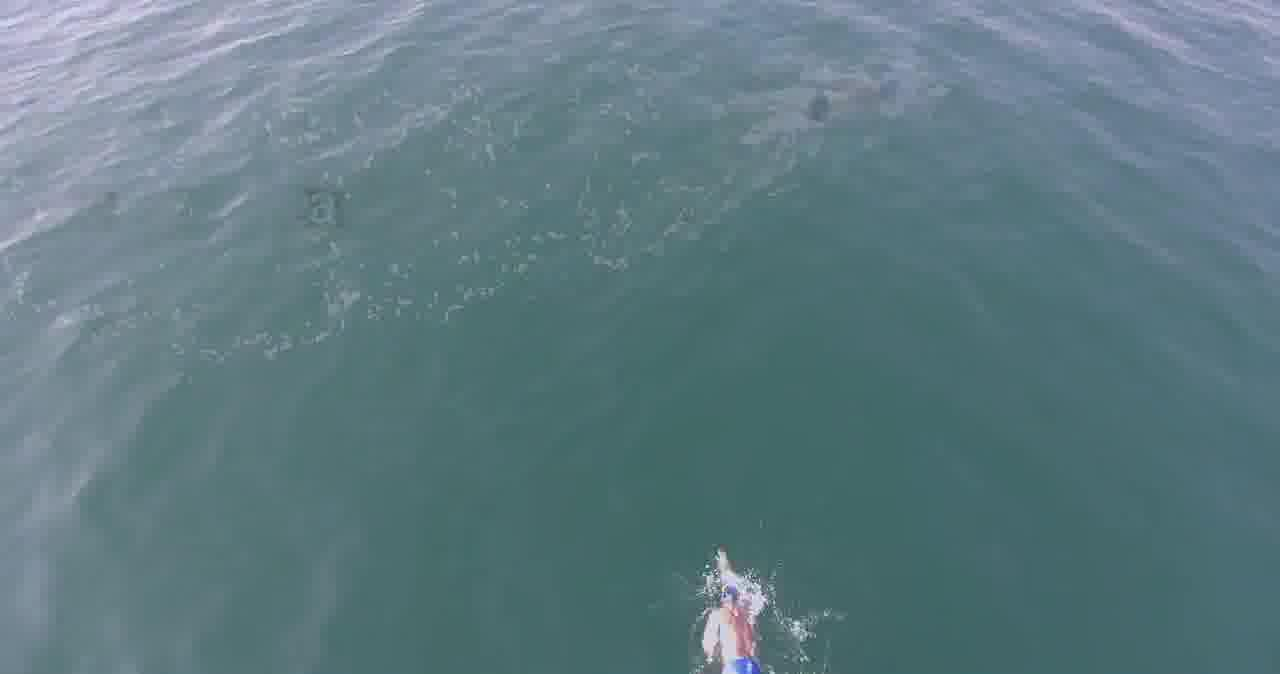swimmer: (700, 550, 778, 658)
